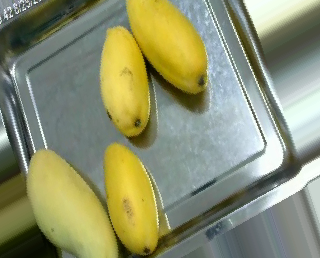Mango: (25, 147, 119, 257), (122, 0, 211, 98), (100, 139, 159, 255), (97, 24, 155, 141)
